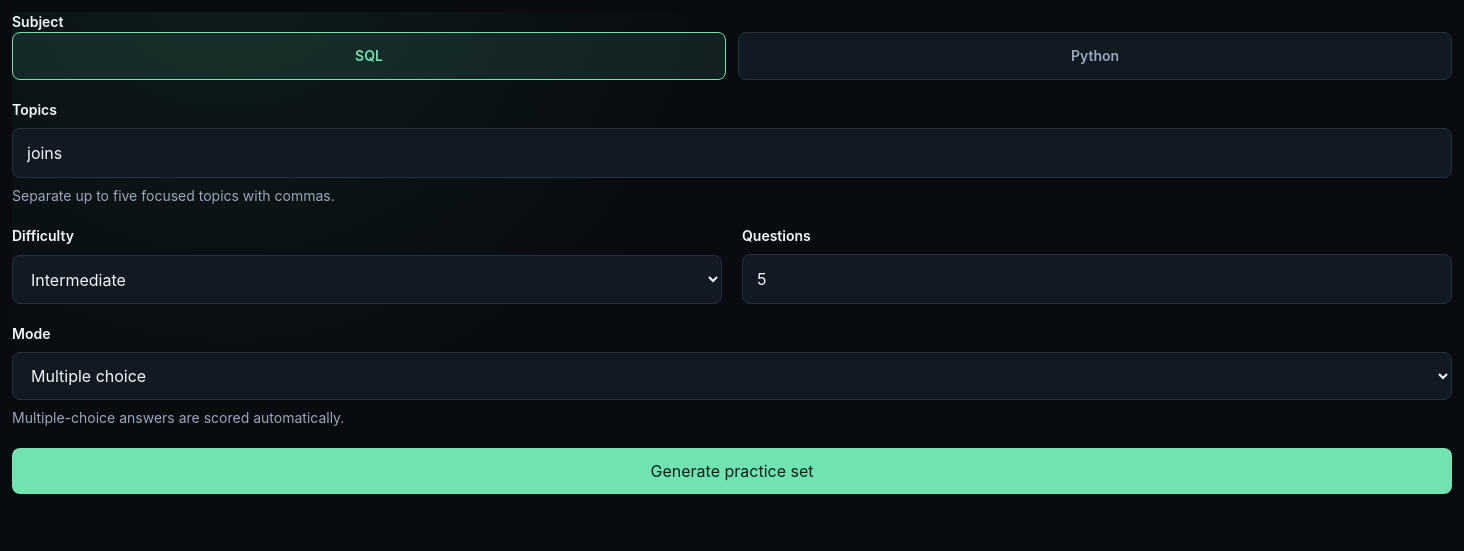
Scenario: GenerationForm › shows a safe recovery message for malformed service data
This screenshot has width=1464, height=551.
Click the button "Generate practice set".
click(732, 471)  # box [12,448,1452,494]
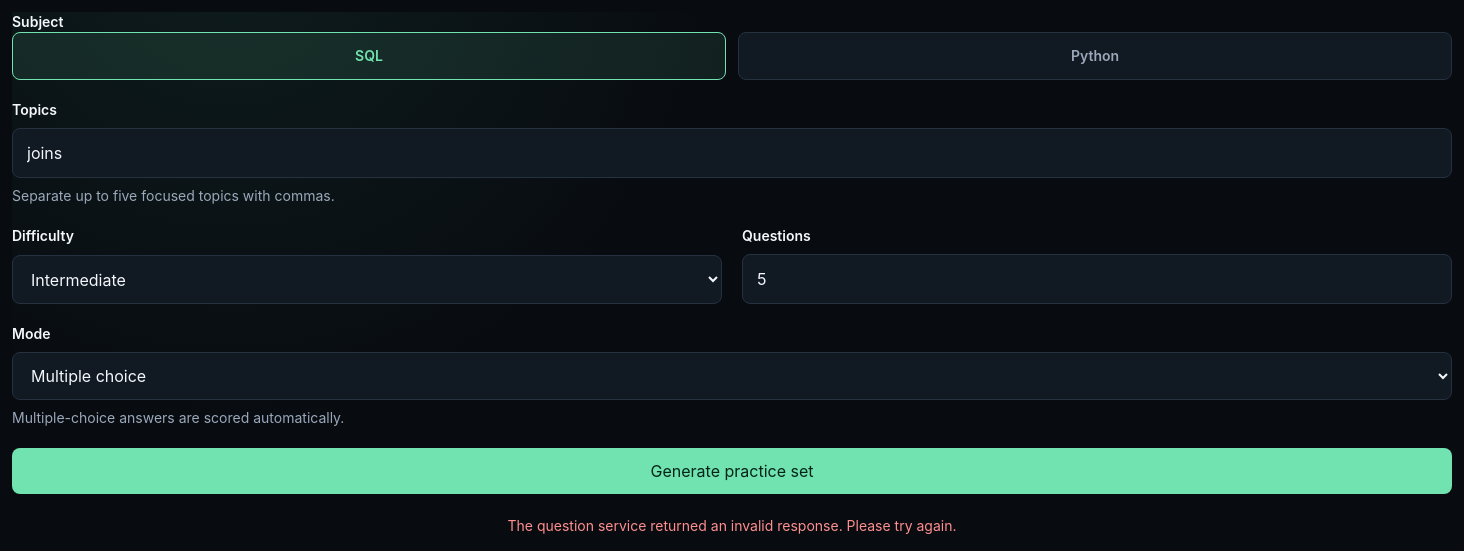
Now the message shows "returned an invalid response", box [508,517,956,534]
